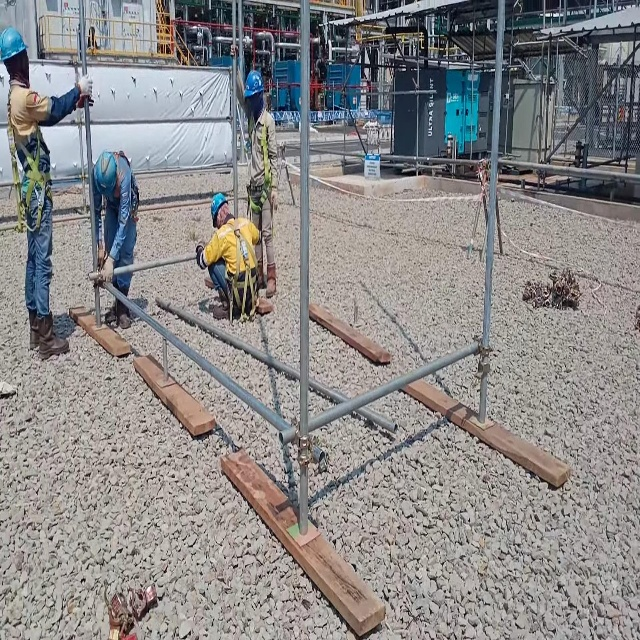Arnes_seguridad: (7, 86, 53, 234), (225, 216, 262, 322), (101, 145, 139, 226), (247, 111, 275, 213)
